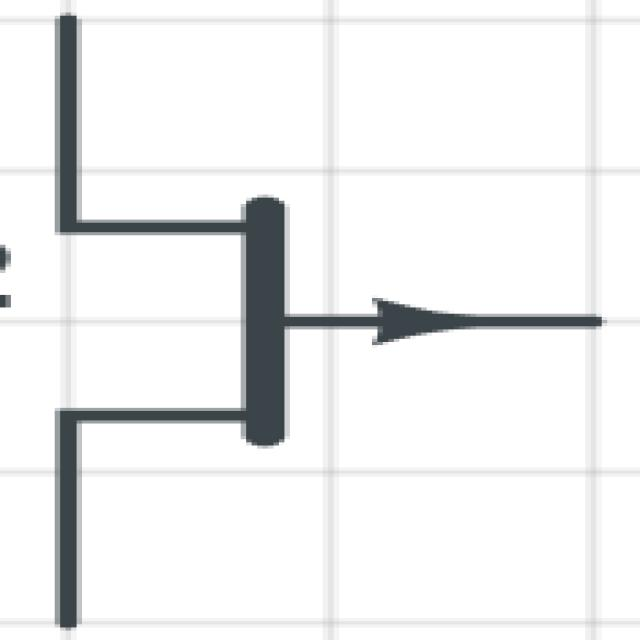nmos: (25, 12, 640, 640)
